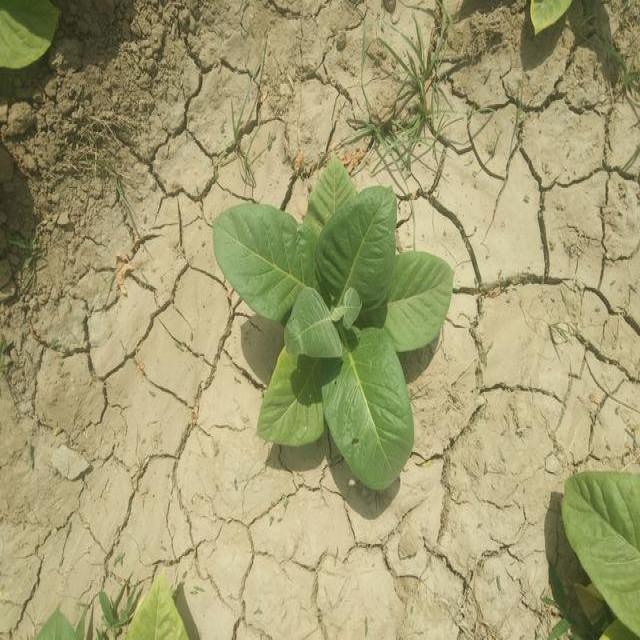crop: (213, 159, 450, 495)
